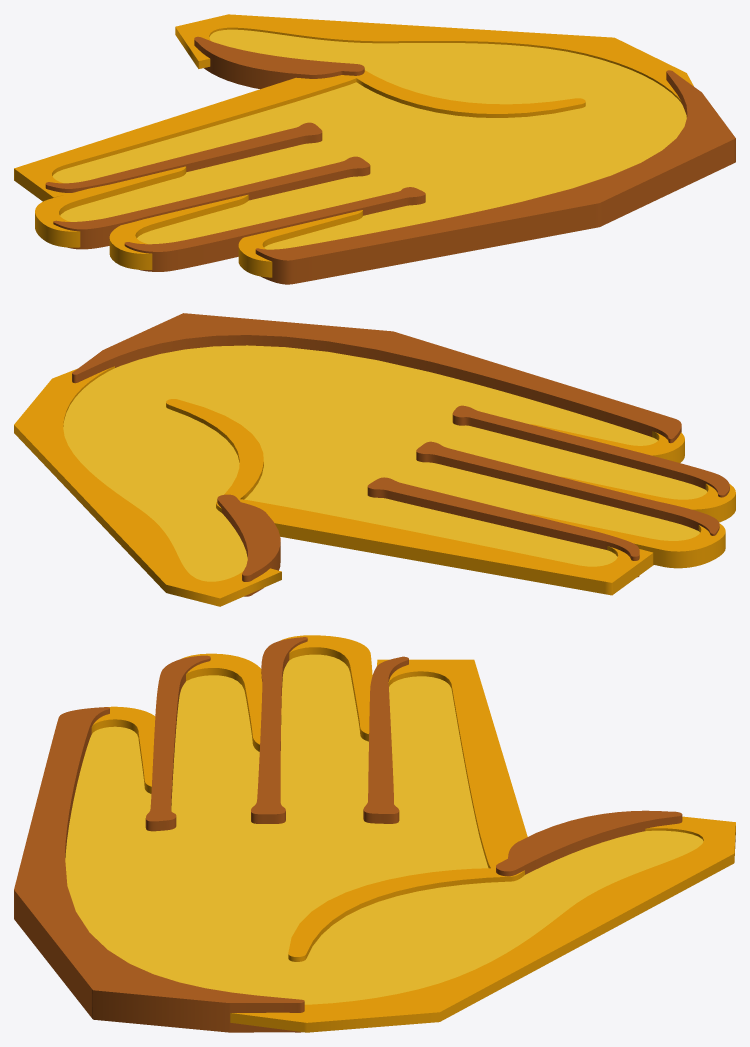
The model's file is emoji_u1faf2.glb.
The picture shows the model from 3 angles, top to bottom: view 1: azimuth 30°, elevation 25°; view 2: azimuth 150°, elevation 25°; view 3: azimuth 270°, elevation 25°; orthographic projection. The views are drawn at different scales.
Parts seen in each view (by area): view 1: emoji_u1faf2; view 2: emoji_u1faf2; view 3: emoji_u1faf2.
Part boxes in pixels (x1,y1,x2,y2): emoji_u1faf2: (14,14,735,284); emoji_u1faf2: (14,313,735,606); emoji_u1faf2: (14,635,735,1032).
Bounding box in the file's own units: 0.0334 × 0.0012 × 0.0267.
